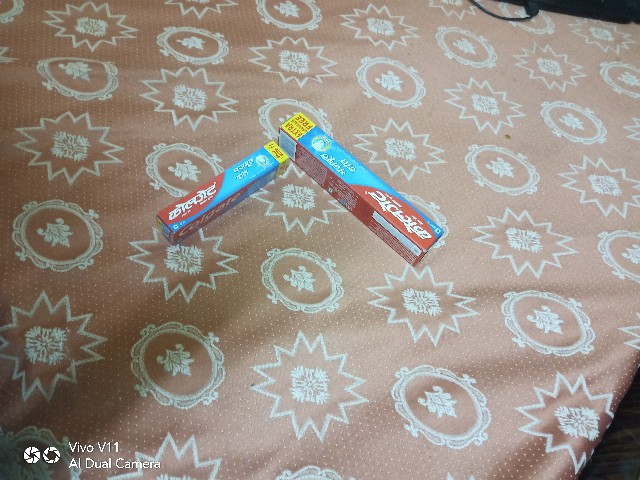colgatetoothpaste big: (274, 110, 445, 269)
colgatetoothpaste small: (145, 136, 291, 259)
